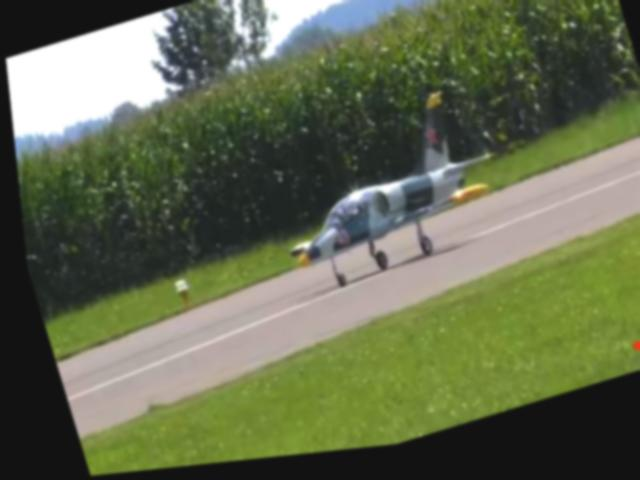uav: (250, 79, 523, 304)
